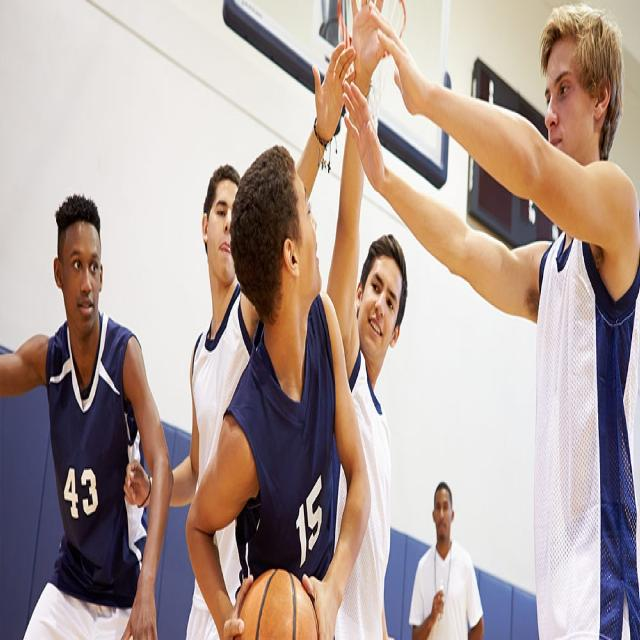body: (338, 0, 639, 639), (120, 31, 360, 639), (181, 136, 375, 639), (0, 160, 175, 638), (325, 0, 408, 640), (406, 475, 486, 639)
